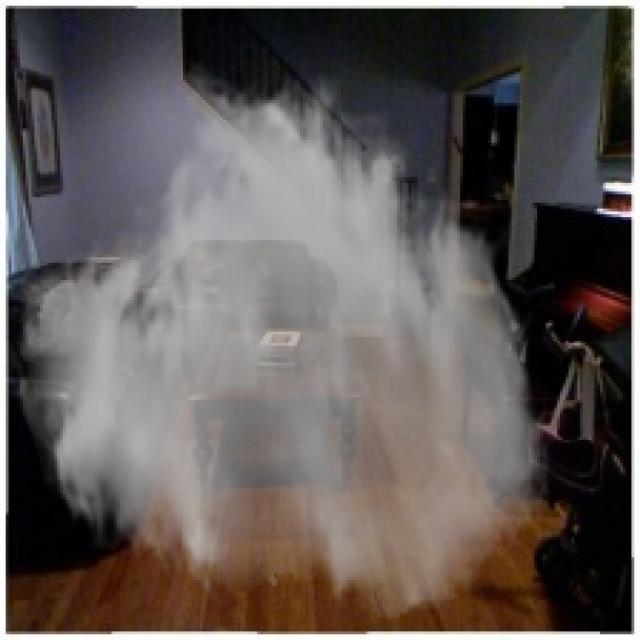Smoke: (12, 60, 554, 623)
